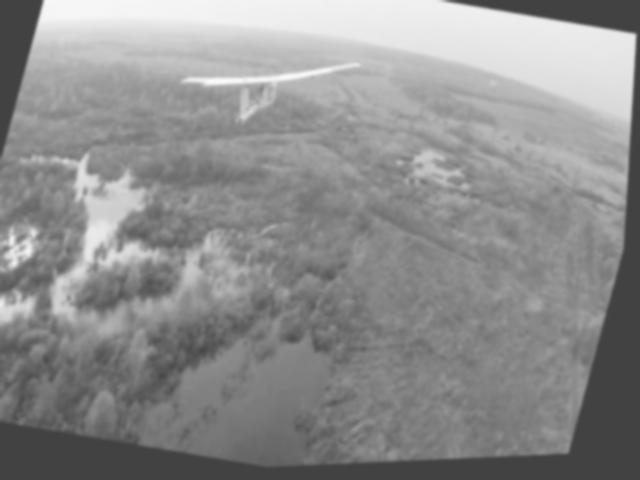hedef: (166, 20, 373, 160)
